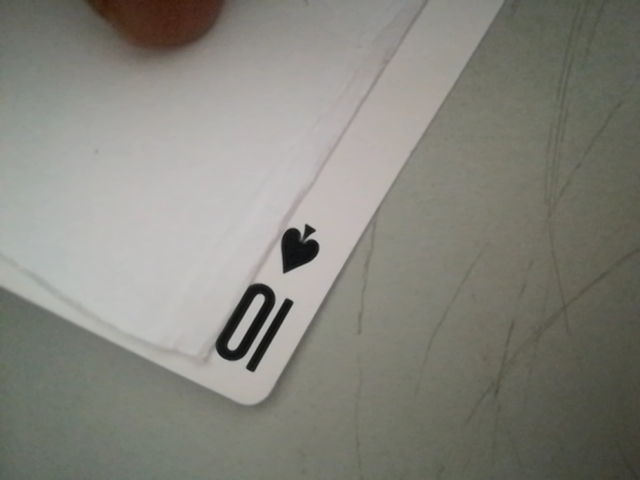ht 10: (203, 211, 335, 393)
